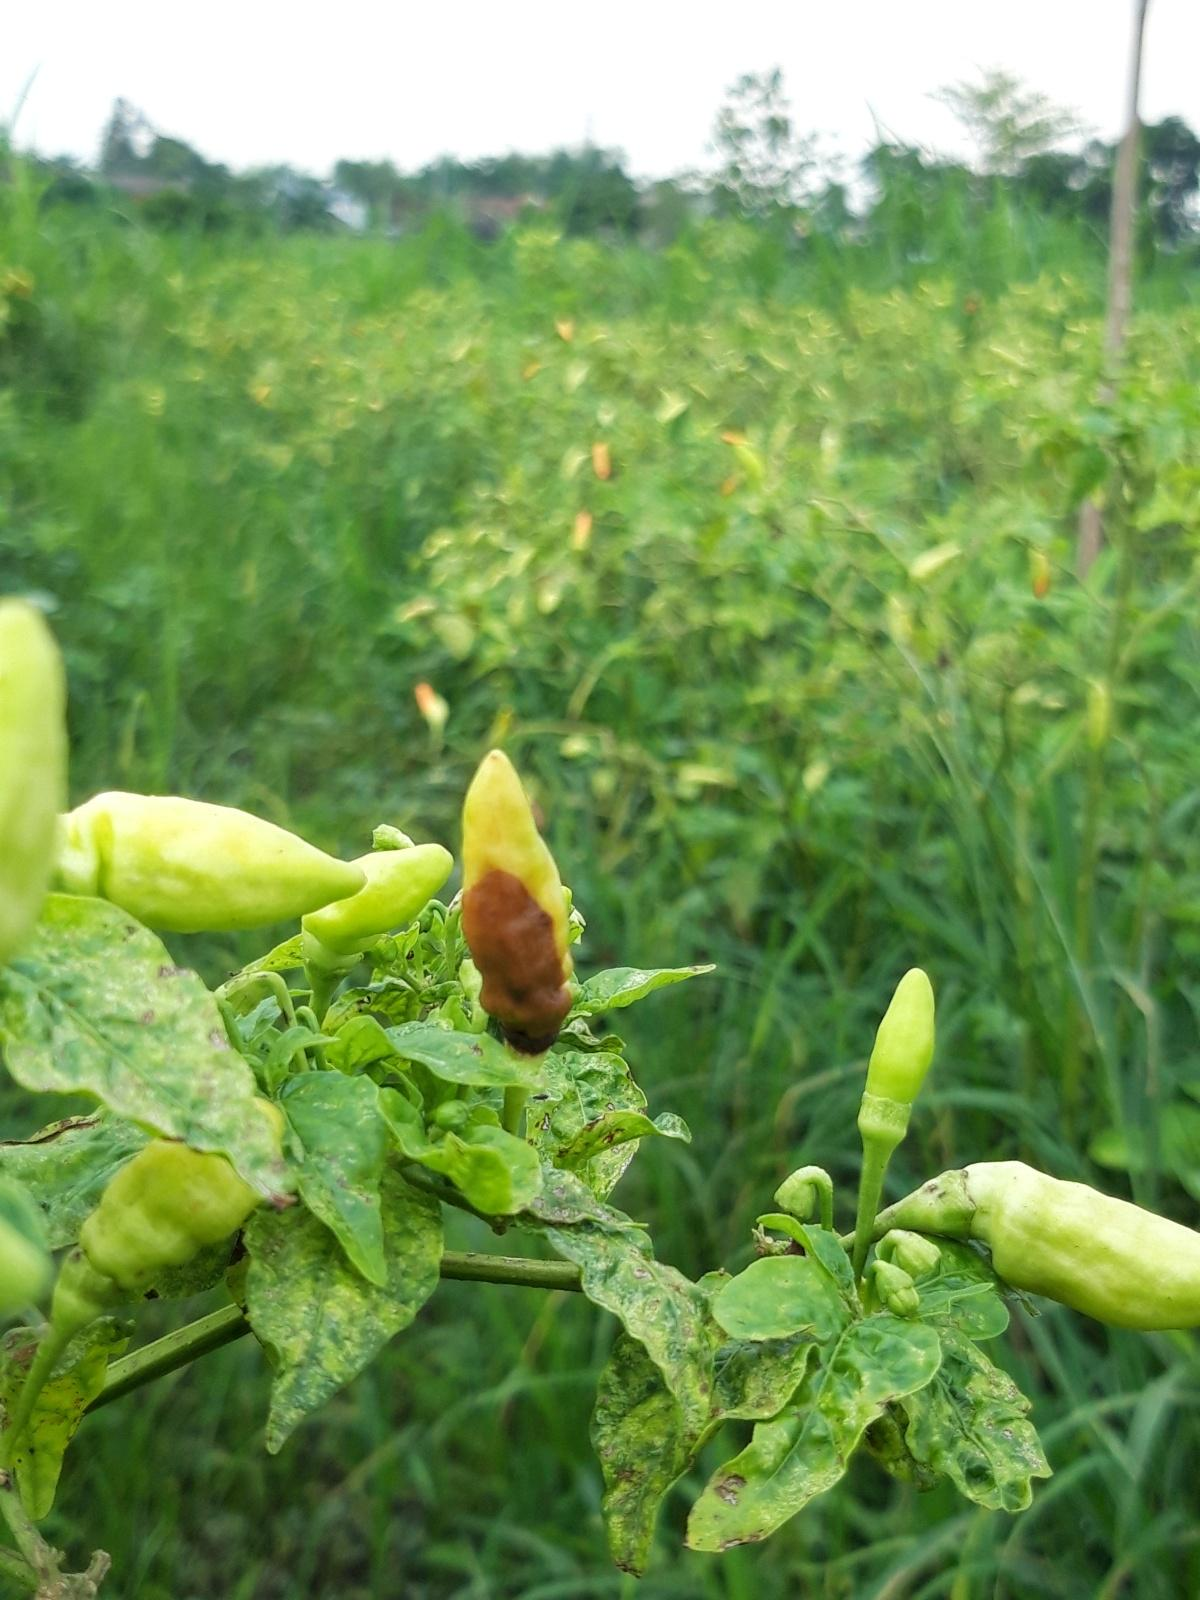cabai_normal: (919, 1159, 1197, 1333), (49, 790, 368, 935), (82, 1100, 286, 1291), (295, 840, 453, 975), (857, 966, 939, 1148)
lalat_buah: (458, 747, 576, 1065)
